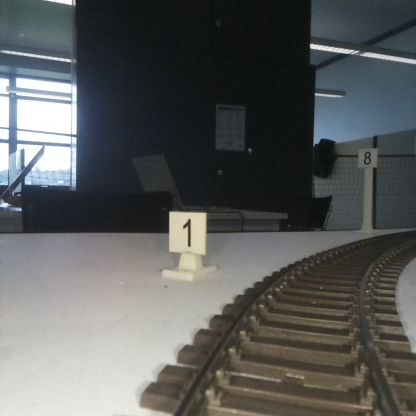white-stop-1: (169, 213, 206, 276)
